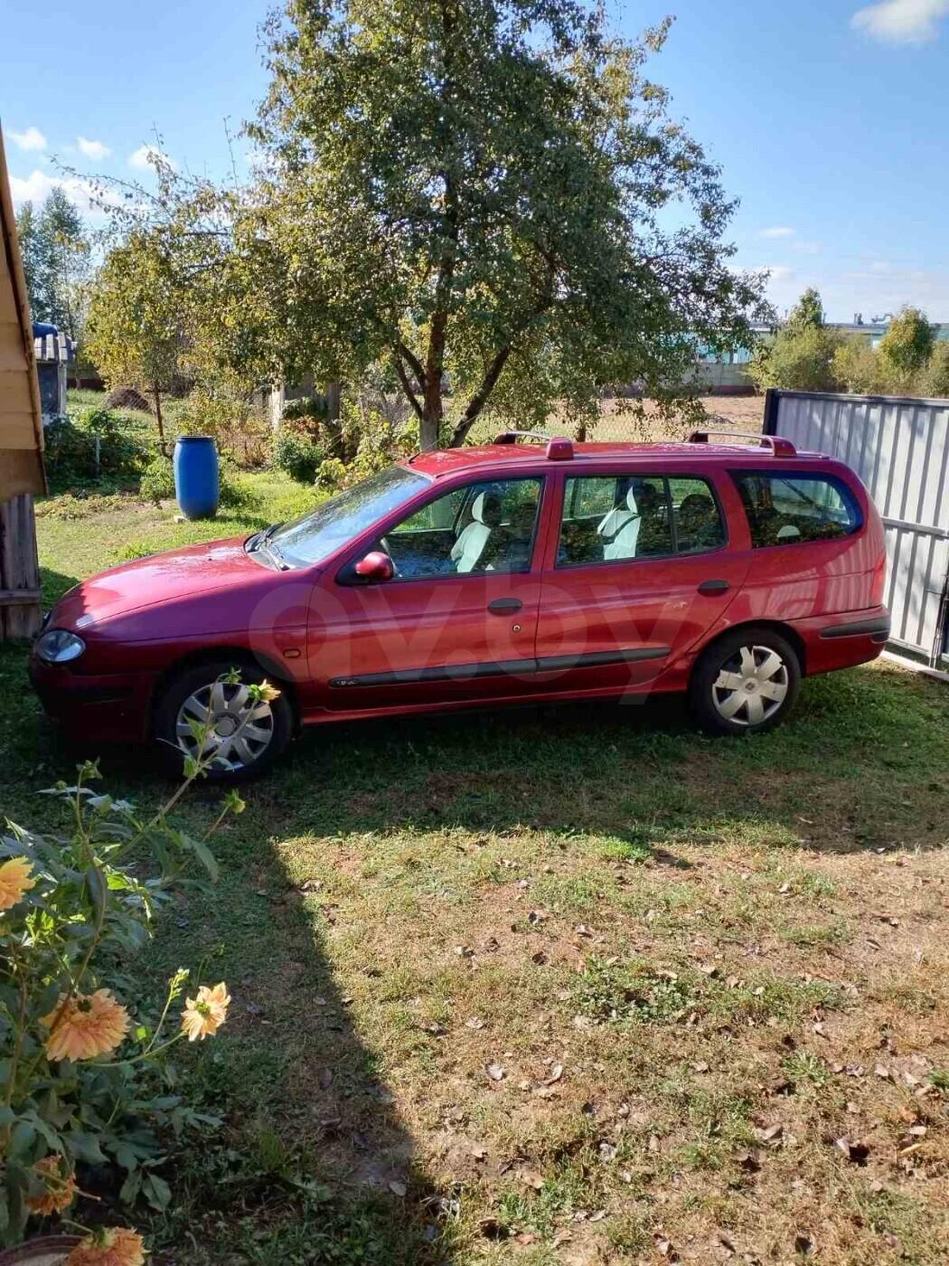Megane_1999-2003: (31, 427, 886, 778)
